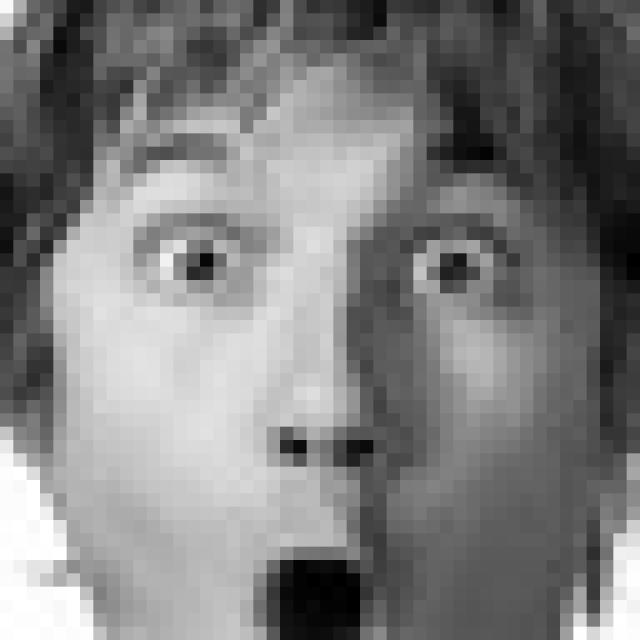surprise: (108, 123, 544, 640)
